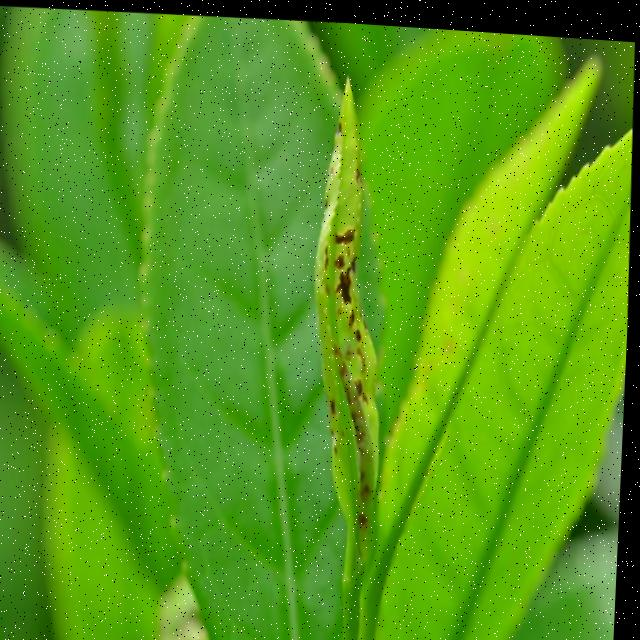Tea red scab: (303, 128, 406, 505)
